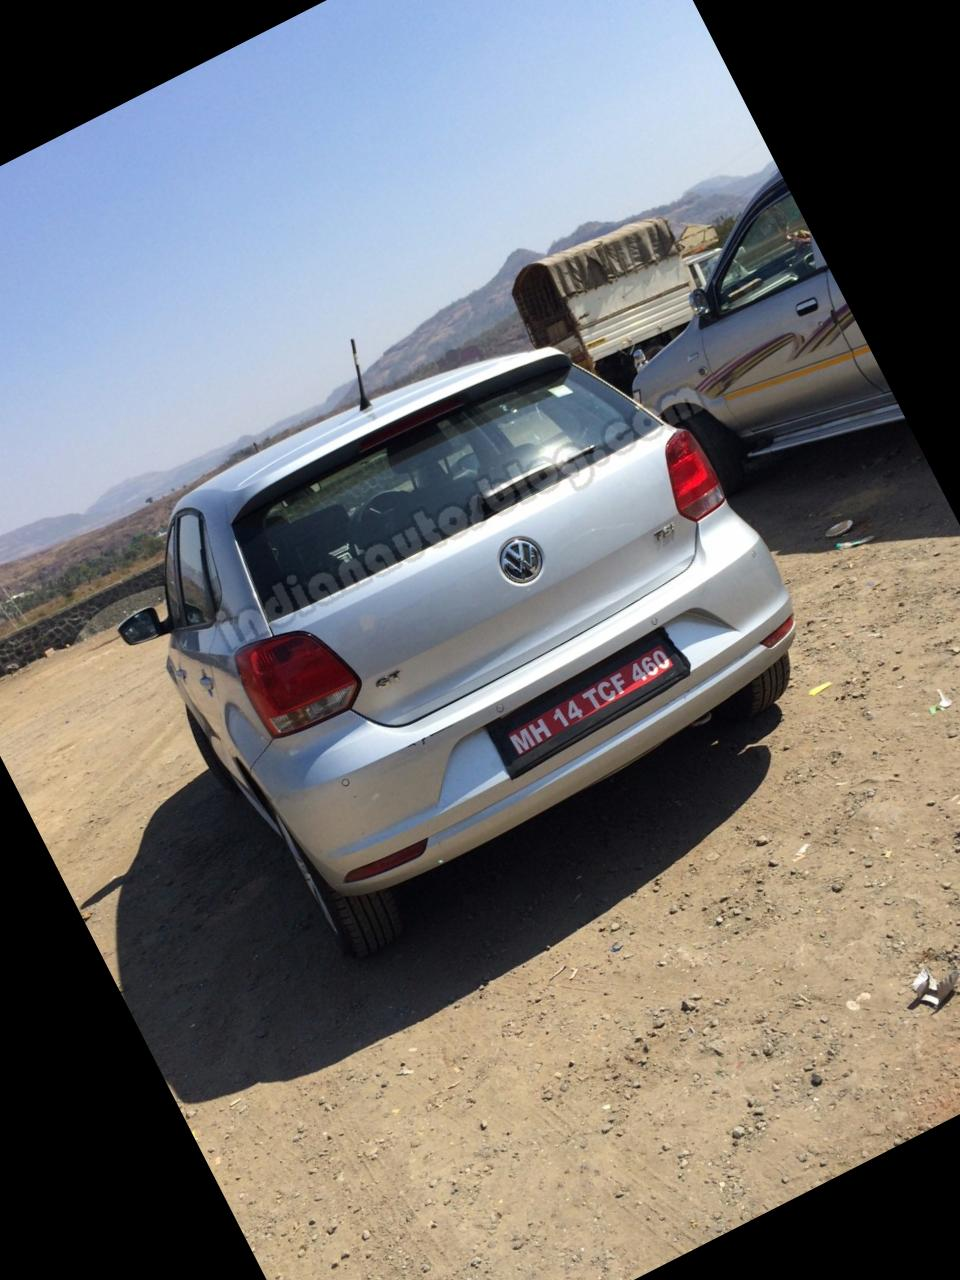plate: (476, 614, 713, 790)
